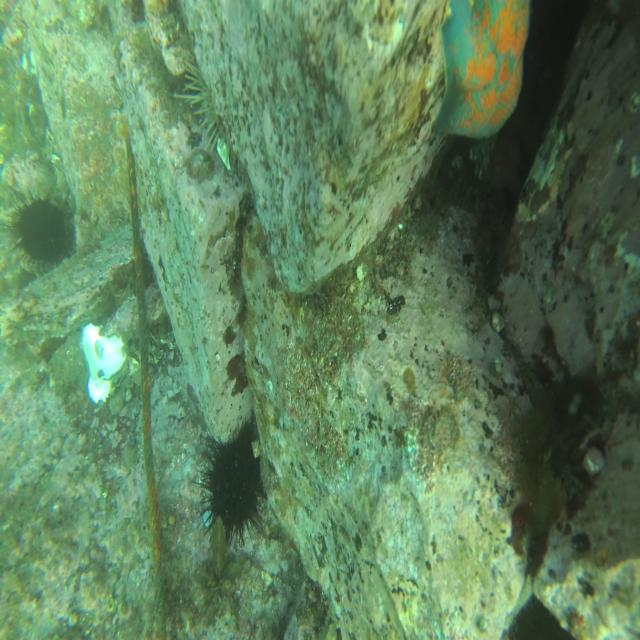echinus: (173, 46, 247, 178), (198, 421, 270, 546), (5, 185, 76, 273)
starfish: (430, 0, 532, 139)
